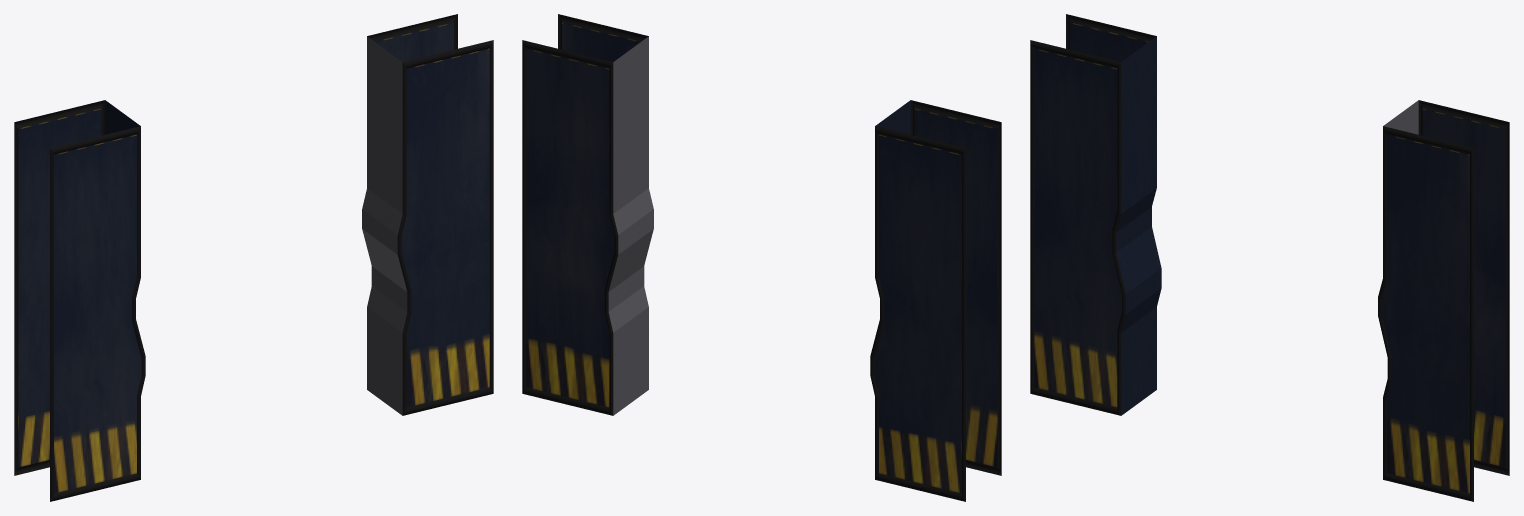
The model's file is door-normal_000006.obj.
3 renders of one model, left to right at view 1: azimuth 30°, elevation 25°; view 2: azimuth 150°, elevation 25°; view 3: azimuth 330°, elevation 25°, orthographic.
Visible parts, largest first — view 1: Door.Left_Cube.007, Door.Right_Cube.006; view 2: Door.Left_Cube.007, Door.Right_Cube.006; view 3: Door.Left_Cube.007, Door.Right_Cube.006.
Boxes of the visible parts, bbox=[...] form: Door.Left_Cube.007: bbox=[362, 14, 493, 415]; Door.Right_Cube.006: bbox=[14, 100, 145, 501]; Door.Left_Cube.007: bbox=[522, 14, 653, 415]; Door.Right_Cube.006: bbox=[870, 100, 1001, 501]; Door.Left_Cube.007: bbox=[1378, 100, 1509, 501]; Door.Right_Cube.006: bbox=[1030, 14, 1161, 415].
Bounding box in the file's own units: 6.9 × 5.26 × 0.9998.
6 materials, 6 textured.
